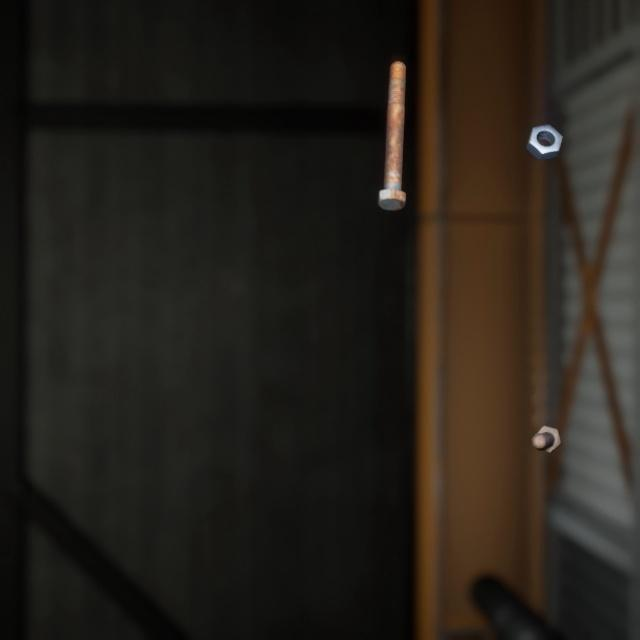bolt: (373, 45, 410, 202), (527, 401, 565, 437)
nut: (521, 107, 566, 152)
